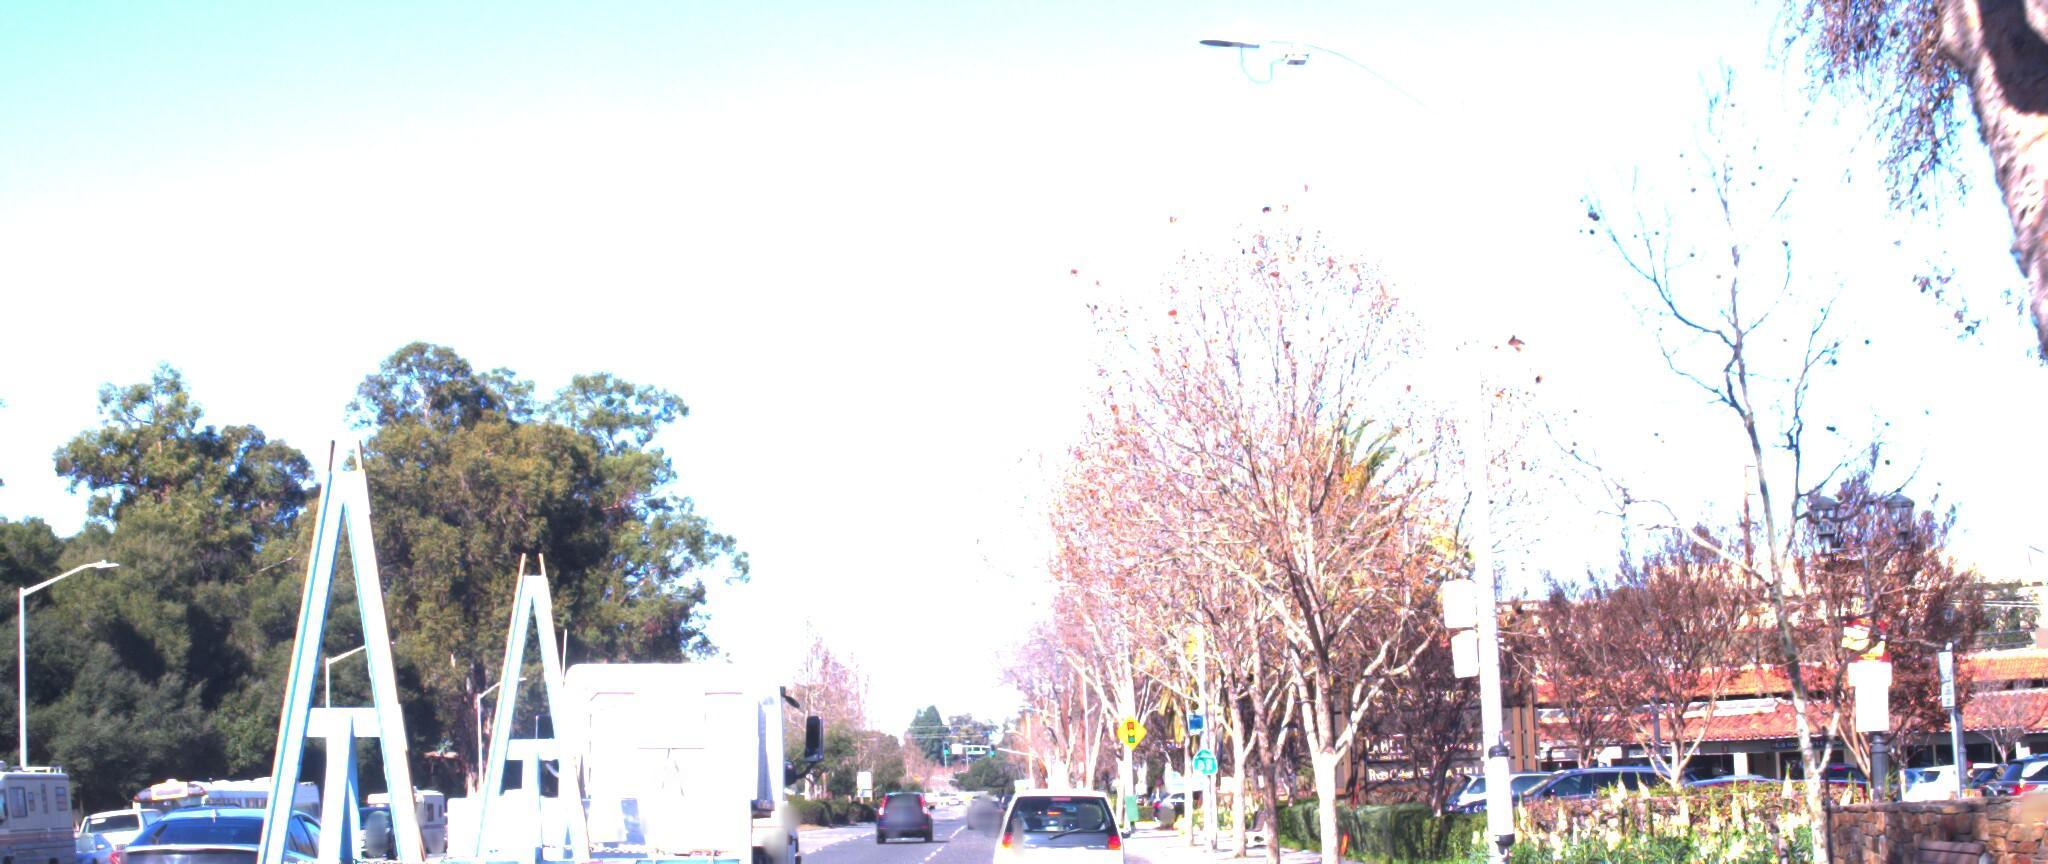car: (73, 778, 389, 864), (980, 764, 1128, 864), (0, 790, 10, 864)
other_vehicle: (0, 730, 98, 864)
truck: (0, 304, 856, 864)
